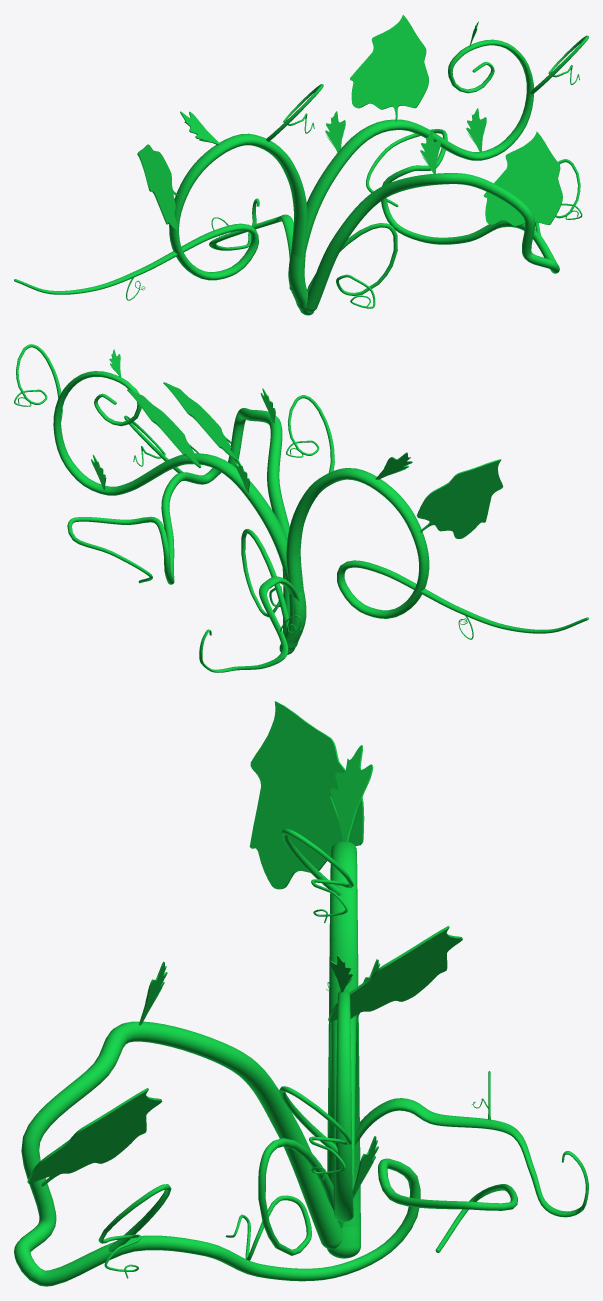
File: pumpkinVine2.fbx
3 views of the same model, one above another, from view 1: azimuth 30°, elevation 25°; view 2: azimuth 150°, elevation 25°; view 3: azimuth 270°, elevation 25° (orthographic). The views are drawn at different scales.
Parts seen in each view (by area): view 1: root (×15); view 2: root (×12); view 3: root (×12).
Part boxes in pixels (bbox=[...]): root (×15): bbox=[14, 15, 588, 315]; root (×12): bbox=[14, 344, 588, 672]; root (×12): bbox=[14, 701, 588, 1286].
Bounding box in the file's own units: 0.9285 × 0.3992 × 0.4625.
